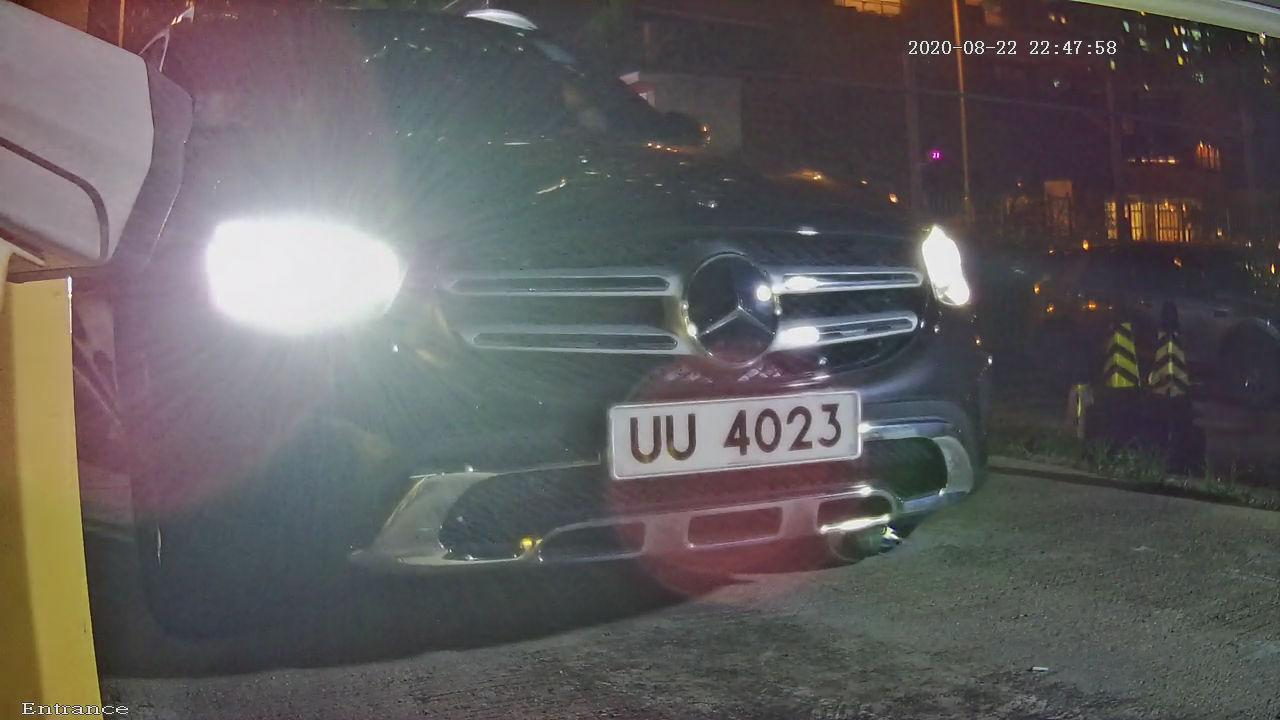Car: (35, 26, 1092, 647)
License Plate: (552, 357, 931, 533)
